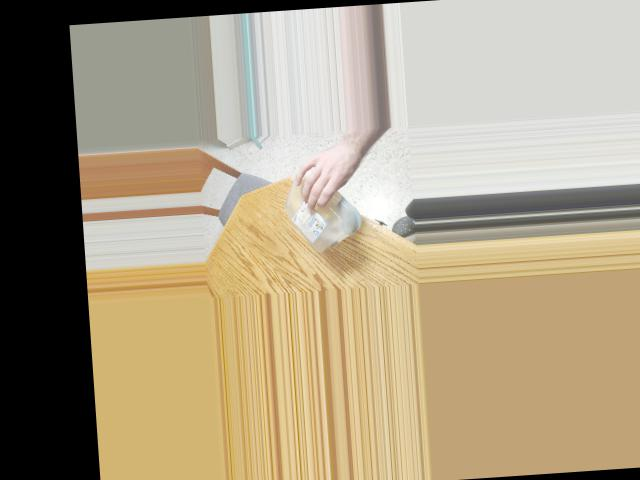cheese: (278, 156, 360, 255)
